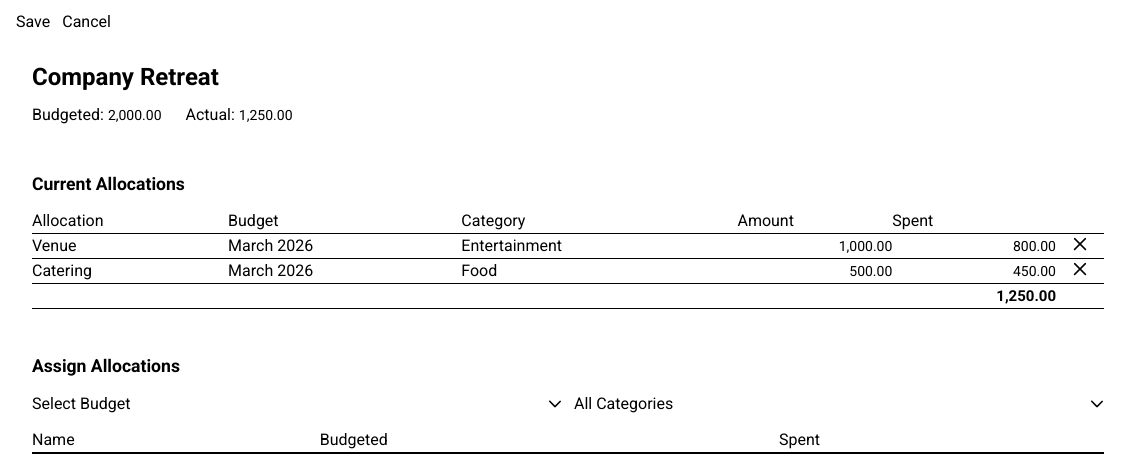
Test: SpecialEventAllocationsEditor › remove allocation › removes the allocation from the current allocations list
Click the button with test id "remove-btn-10": {"x": 1080, "y": 244} x1=1072 y1=235 x2=1088 y2=254
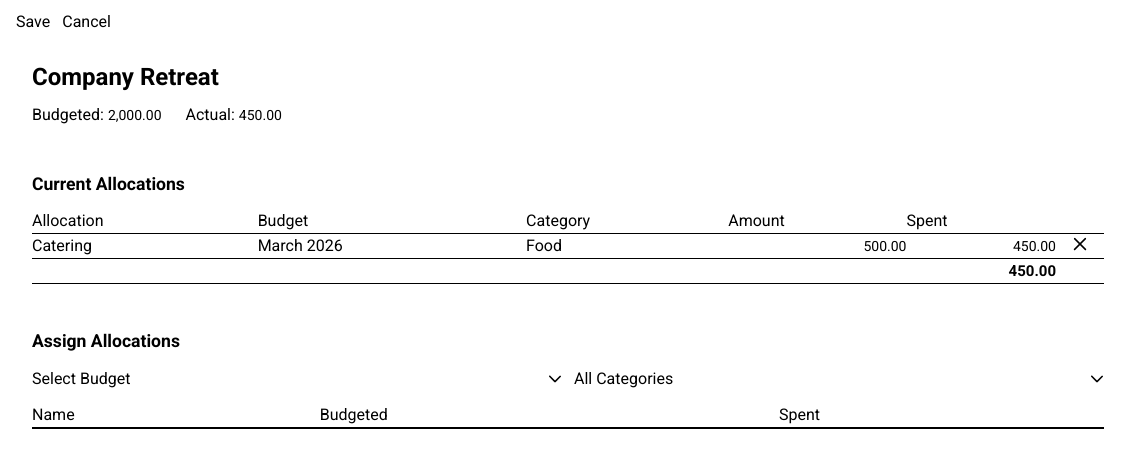
Expected: the element with test id "current-allocations-table" shows "Catering", x1=32 y1=236 x2=92 y2=255
Expected: the cell with test id "current-allocations-table" no longer shows "Venue"
